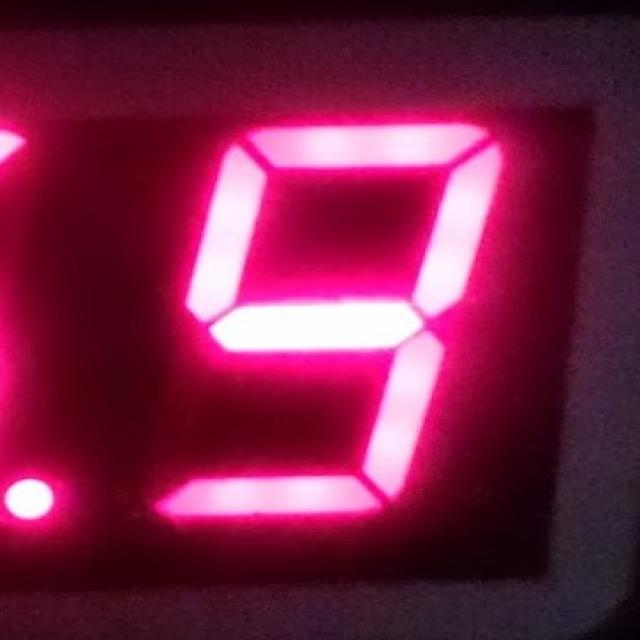.: (2, 468, 55, 526)
9: (144, 114, 508, 531)
